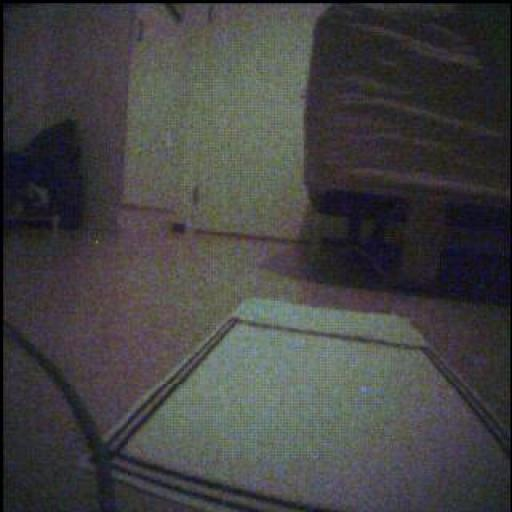pad: (109, 300, 512, 512)
